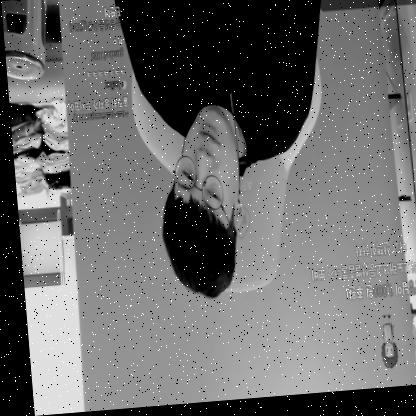donation: (304, 244, 416, 380)
streamer: (110, 0, 345, 306)
